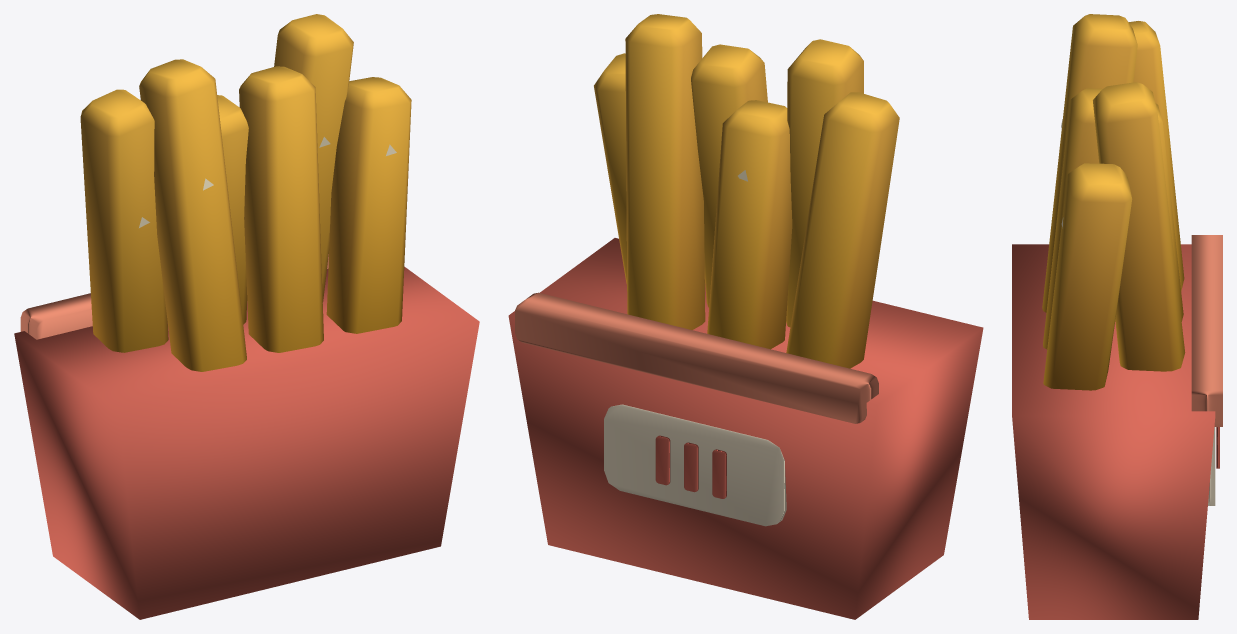
The model's file is fry_box.glb.
The picture shows the model from 3 angles, left to right: view 1: azimuth 30°, elevation 25°; view 2: azimuth 150°, elevation 25°; view 3: azimuth 270°, elevation 25°; orthographic projection. The views are drawn at different scales.
Parts seen in each view (by area): view 1: Carrier, Sticks; view 2: Carrier, Sticks; view 3: Carrier, Sticks.
Part boxes in pixels (x1,y1,x2,y2): Carrier: (14,254,479,619); Sticks: (80,14,411,371); Carrier: (508,238,983,619); Sticks: (594,14,899,368); Carrier: (1012,235,1222,619); Sticks: (1042,14,1185,390).
Bounding box in the file's own units: 0.456 × 0.6099 × 0.2365.
